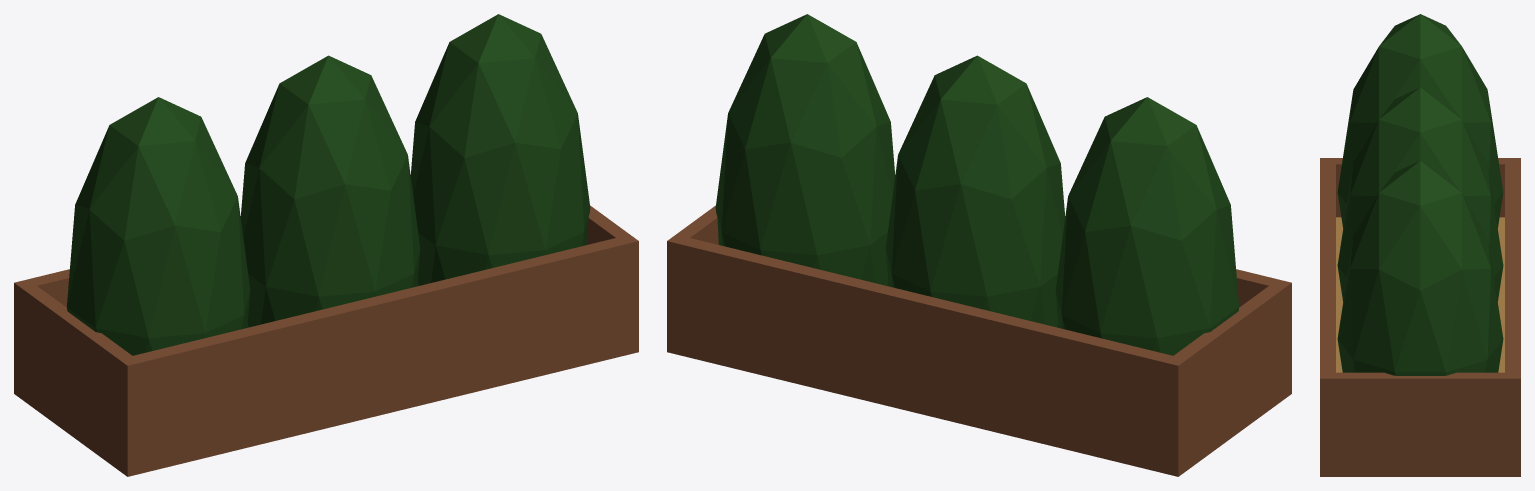
The model's file is BushesBrown.obj.
3 views of the same model, side by side, from view 1: azimuth 30°, elevation 25°; view 2: azimuth 150°, elevation 25°; view 3: azimuth 270°, elevation 25° (orthographic). The views are drawn at different scales.
Visible parts, largest first — view 1: Icosphere.001; view 2: Icosphere.001; view 3: Icosphere.001.
Boxes of the visible parts, box(x1,y1,x2,y2) form: Icosphere.001: box(14, 14, 638, 476); Icosphere.001: box(667, 14, 1291, 476); Icosphere.001: box(1320, 14, 1520, 476).
Bounding box in the file's own units: 5.2 × 3.08 × 2.
